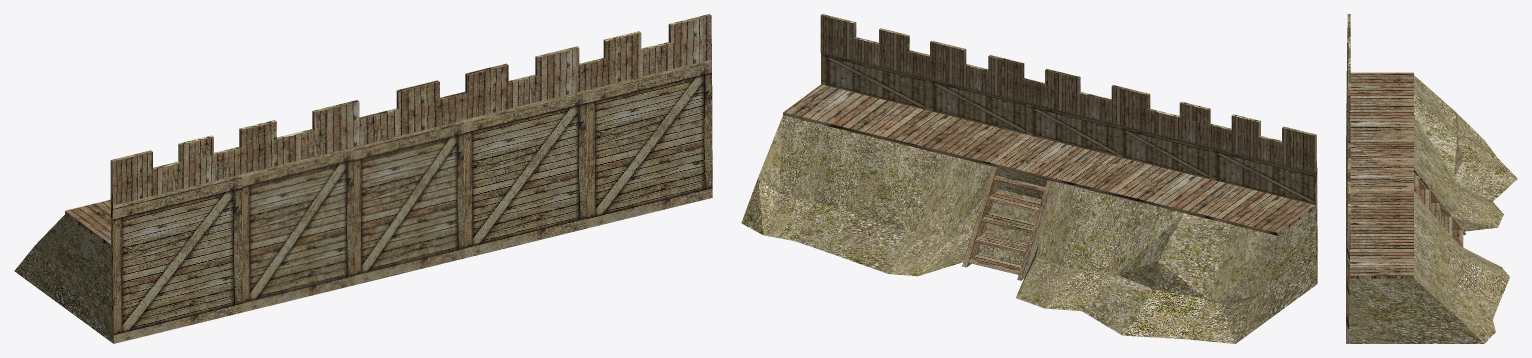
The model's file is rome_siege_wall.dae.
The picture shows the model from 3 angles, left to right: view 1: azimuth 30°, elevation 25°; view 2: azimuth 150°, elevation 25°; view 3: azimuth 270°, elevation 25°; orthographic projection. The views are drawn at different scales.
Parts seen in each view (by area): view 1: Mesh04; view 2: Mesh04; view 3: Mesh04.
Boxes of the visible parts, x1,y1,x2,y2 form: Mesh04: [14, 14, 712, 343]; Mesh04: [741, 14, 1317, 343]; Mesh04: [1346, 14, 1517, 343].
Size of the model in its own units: 25.08 by 8.95 by 7.26.
